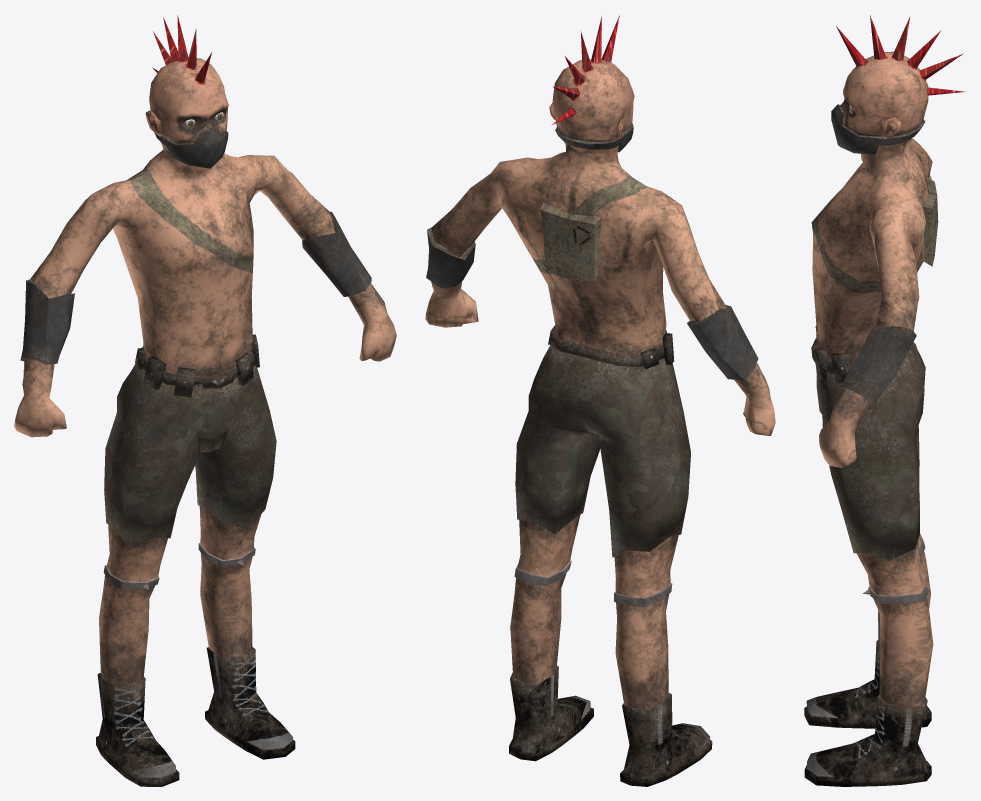
File: Anim_idle_npc2.0027.obj
3 renders of one model, left to right at view 1: azimuth 30°, elevation 25°; view 2: azimuth 150°, elevation 25°; view 3: azimuth 270°, elevation 25°, orthographic. The views are drawn at different scales.
Parts seen in each view (by area): view 1: polySurface1; view 2: polySurface1; view 3: polySurface1.
Part boxes in pixels (box(x1,y1,x2,y2)): polySurface1: box(14, 15, 396, 786); polySurface1: box(425, 14, 775, 786); polySurface1: box(804, 15, 965, 786).
Size of the model in its own units: 5.34 by 10.19 by 2.03.
